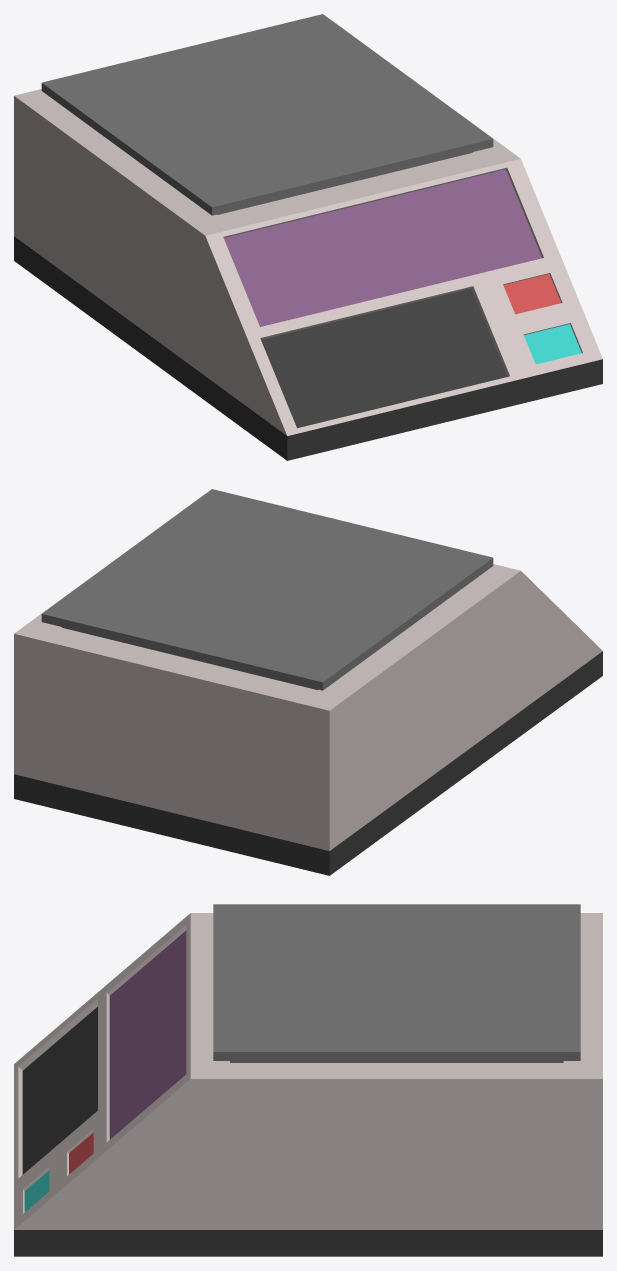
Rendered from Scales.fbx.
3 views of the same model, one above another, from view 1: azimuth 30°, elevation 25°; view 2: azimuth 150°, elevation 25°; view 3: azimuth 270°, elevation 25° (orthographic). The views are drawn at different scales.
Parts seen in each view (by area): view 1: Scales; view 2: Scales; view 3: Scales.
Part boxes in pixels (x1=…): Scales: x1=14, y1=14, x2=602, y2=460; Scales: x1=14, y1=489, x2=602, y2=875; Scales: x1=14, y1=904, x2=602, y2=1256.
Size of the model in its own units: 2 by 1.1 by 3.
